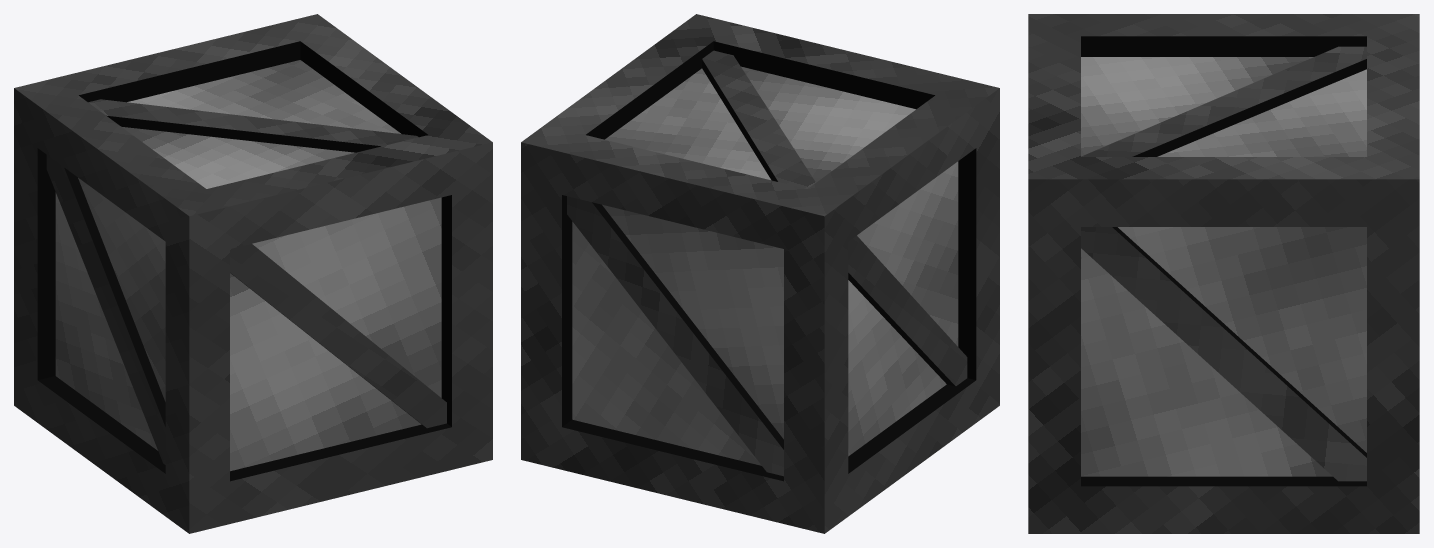
File: Crate.glb
3 renders of one model, left to right at view 1: azimuth 30°, elevation 25°; view 2: azimuth 150°, elevation 25°; view 3: azimuth 270°, elevation 25°, orthographic. The views are drawn at different scales.
Parts seen in each view (by area): view 1: BoxBox.001; view 2: BoxBox.001; view 3: BoxBox.001.
Boxes of the visible parts, x1,y1,x2,y2 form: BoxBox.001: [14, 14, 492, 533]; BoxBox.001: [521, 14, 999, 533]; BoxBox.001: [1028, 14, 1419, 533].
Size of the model in its own units: 1.79 by 1.79 by 1.79.
Materials: 1 (1 with a texture image).
